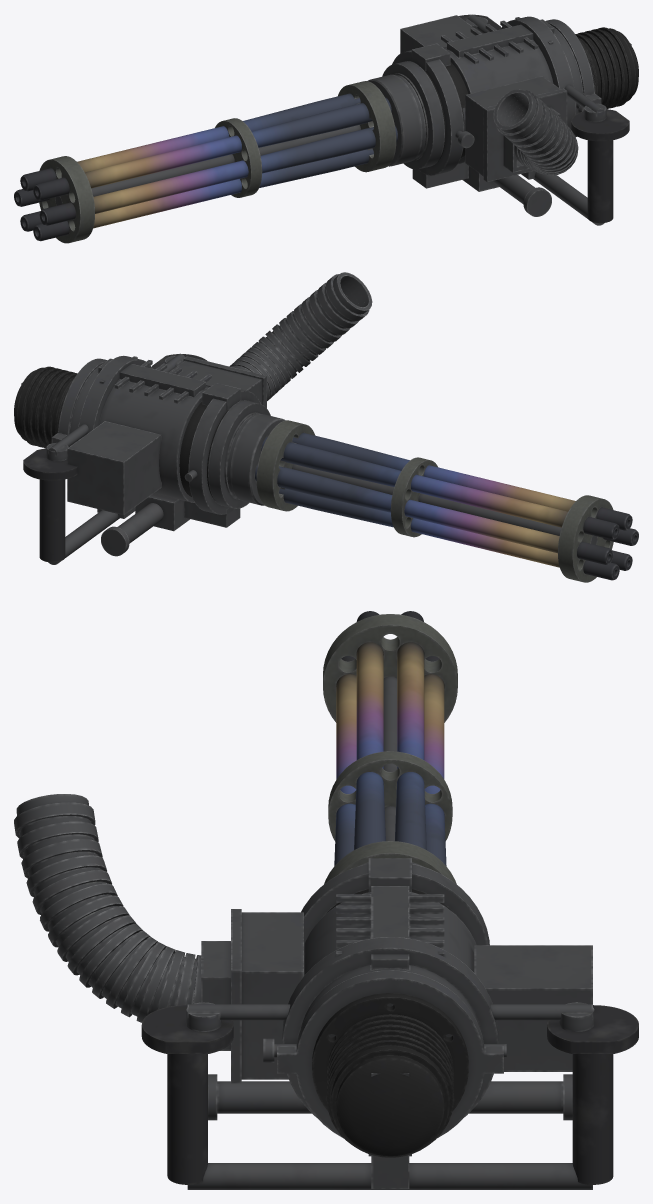
Rendered from drone-vykhor7.glb.
The picture shows the model from 3 angles, top to bottom: view 1: azimuth 30°, elevation 25°; view 2: azimuth 150°, elevation 25°; view 3: azimuth 270°, elevation 25°; orthographic projection. The views are drawn at different scales.
Visible parts, largest first — view 1: housing_cover, barrel_l2, barrel_l1, feed_chute_flex, barrel_l3, barrel_r1, spade_l_grip, motor_can, rotor, cradle_front, barrel_clamp_muzzle, barrel_clamp_rear (+16 smaller); view 2: housing_cover, feed_chute_flex, link_chute, barrel_r2, barrel_r1, barrel_r3, barrel_l1, spade_r_grip, motor_can, rotor, cradle_front, barrel_clamp_muzzle (+14 smaller); view 3: feed_chute_flex, housing_cover, link_chute, handle_bar, rear_gun_support, motor_end_cap, spade_r_grip, spade_l_grip, feeder_housing, cradle_rear, motor_can, trunnion_pin (+15 smaller).
Boxes of the visible parts, bbox=[...] form: housing_cover: bbox=[441, 17, 583, 163]; barrel_l2: bbox=[39, 126, 397, 225]; barrel_l1: bbox=[33, 97, 391, 200]; feed_chute_flex: bbox=[493, 89, 578, 175]; barrel_l3: bbox=[33, 149, 373, 241]; barrel_r1: bbox=[20, 93, 360, 191]; spade_l_grip: bbox=[571, 109, 629, 223]; motor_can: bbox=[575, 27, 635, 109]; rotor: bbox=[367, 73, 465, 166]; cradle_front: bbox=[392, 50, 464, 175]; barrel_clamp_muzzle: bbox=[39, 156, 94, 243]; barrel_clamp_rear: bbox=[338, 81, 396, 172]; housing_cover: bbox=[69, 356, 211, 502]; feed_chute_flex: bbox=[229, 272, 372, 400]; link_chute: bbox=[67, 421, 161, 515]; barrel_r2: bbox=[255, 465, 613, 564]; barrel_r1: bbox=[261, 437, 619, 539]; barrel_r3: bbox=[279, 488, 619, 580]; barrel_l1: bbox=[292, 432, 632, 530]; spade_r_grip: bbox=[23, 448, 77, 562]; motor_can: bbox=[17, 366, 77, 448]; rotor: bbox=[224, 412, 285, 505]; cradle_front: bbox=[188, 389, 260, 514]; barrel_clamp_muzzle: bbox=[558, 495, 613, 582]; feed_chute_flex: bbox=[14, 794, 202, 1022]; housing_cover: bbox=[301, 886, 479, 1028]; link_chute: bbox=[474, 945, 592, 1071]; handle_bar: bbox=[187, 1163, 592, 1189]; rear_gun_support: bbox=[277, 970, 503, 1138]; motor_end_cap: bbox=[336, 1055, 444, 1156]; spade_r_grip: bbox=[547, 1005, 638, 1184]; spade_l_grip: bbox=[141, 1005, 233, 1184]; feeder_housing: bbox=[241, 912, 303, 1079]; cradle_rear: bbox=[282, 937, 498, 1117]; motor_can: bbox=[327, 1014, 453, 1157]; trunnion_pin: bbox=[208, 1074, 572, 1120].
Bounding box in the file's own units: 0.801 × 0.2493 × 0.4626.
Materials: 1 (1 with a texture image).
